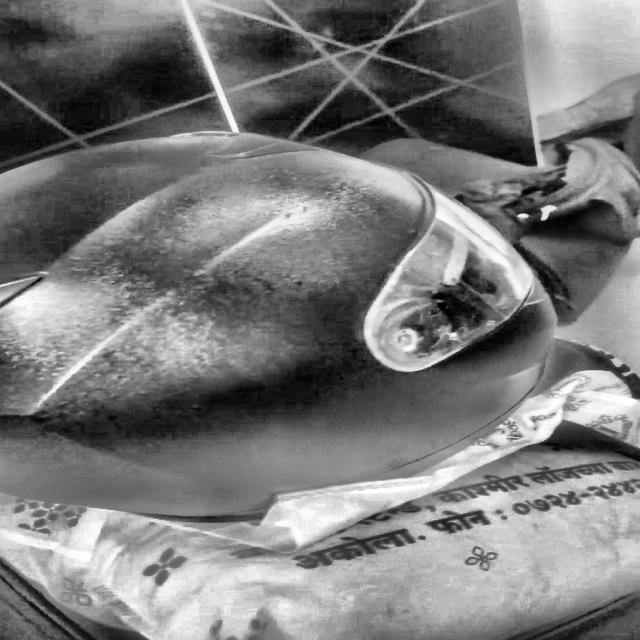Helmet: (0, 122, 571, 520)
